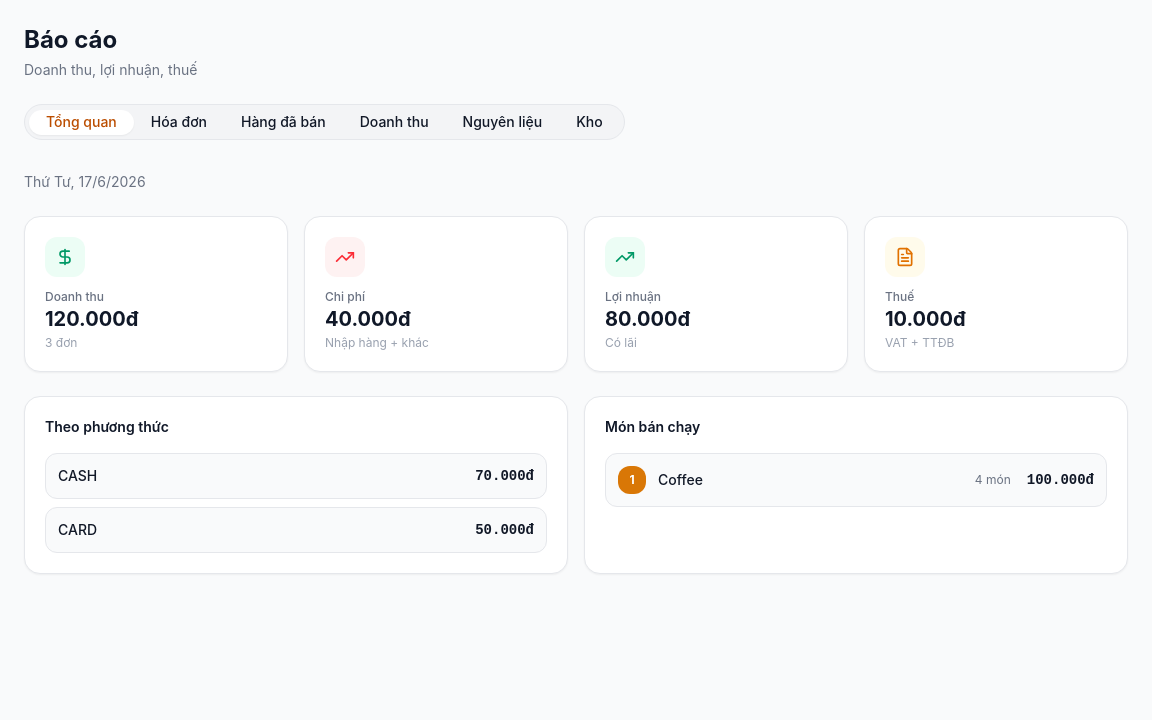
Scenario: ReportsClient › renders empty states when reports return no rows
This screenshot has width=1152, height=720.
What coordinates should you click on to do the following:
click the tab "Hóa đơn"
I would click on:
 (179, 122)
Its box is x1=134 y1=110 x2=224 y2=134.
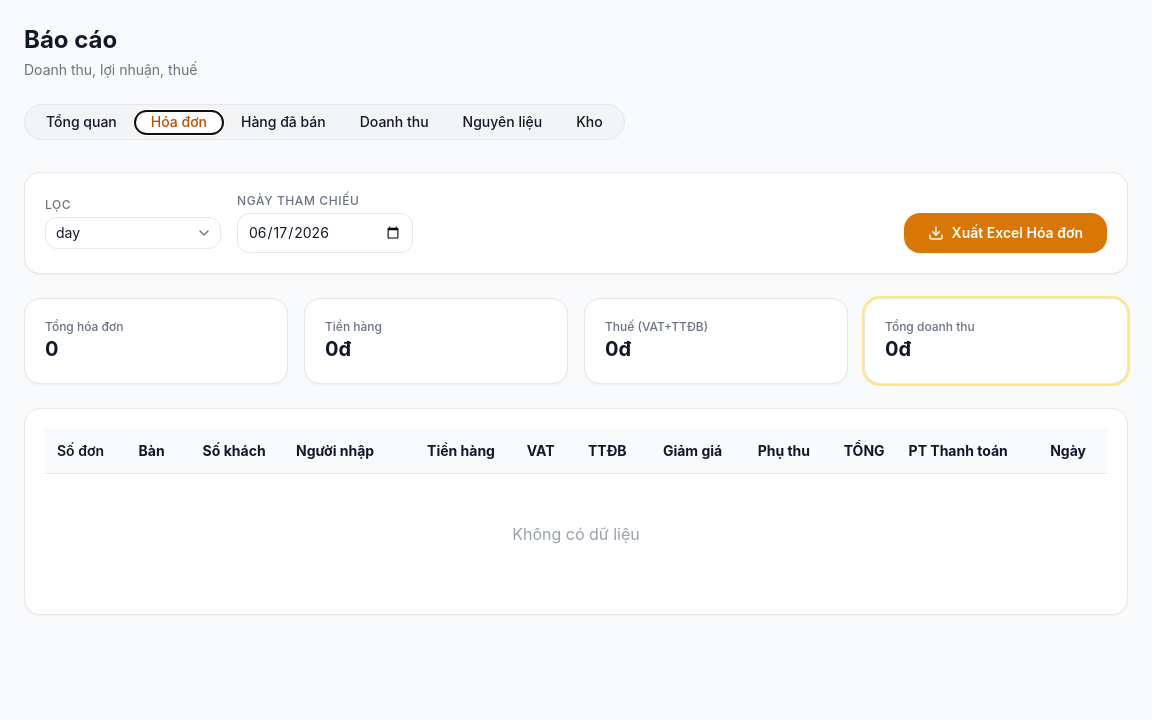
Expected: the text "Không có dữ liệu" is shown, x1=512 y1=524 x2=640 y2=544
